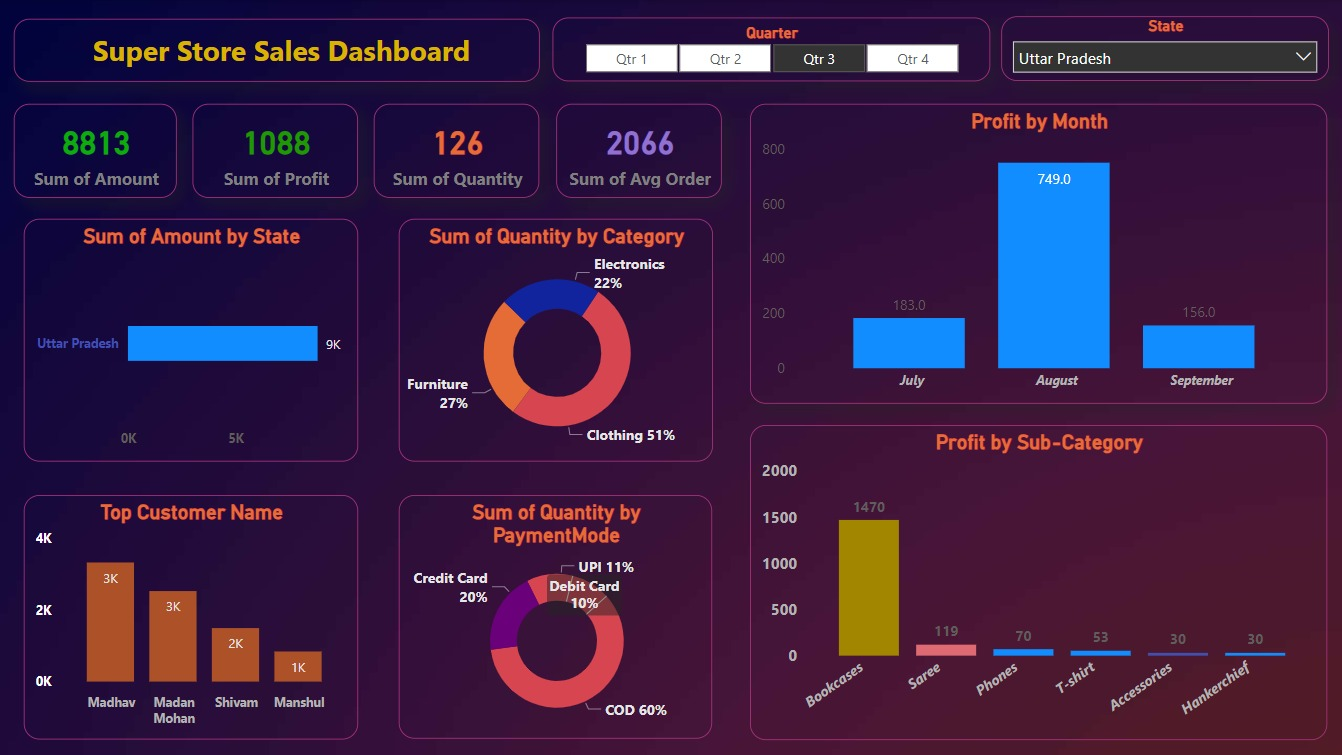

This screenshot's page, from the dashboard's own definition file:
{"tool":"powerbi","page":{"name":"Page 1","canvas":[1280,720],"ordinal":0},"visuals":[{"type":"textbox","box":[13.5,17.4,500.9,60.4],"z":0,"group":"g1"},{"type":"columnChart","title":"Profit by Month","fields":{"Category":["Orders.Order Date.Variation.Date Hierarchy.Month"],"Y":["Sum(Details.Profit)"]},"box":[714,98.8,549.8,285.6],"z":1000,"group":"g1"},{"type":"columnChart","title":"Profit by Sub-Category","fields":{"Category":["Details.Sub-Category"],"Y":["Sum(Details.Profit)"]},"box":[714,404.1,549.5,300.4],"z":2000,"group":"g1"},{"type":"donutChart","fields":{"Category":["Details.Category"],"Y":["Sum(Details.Quantity)"]},"box":[379.1,208.6,299.2,231.3],"z":3000,"group":"g1"},{"type":"donutChart","fields":{"Y":["Sum(Details.Quantity)"],"Category":["Details.PaymentMode"]},"box":[379.6,471.3,298.7,232.1],"z":4000,"group":"g1"},{"type":"card","fields":{"Values":["Sum(Details.Amount)"]},"box":[13.1,98.9,155,89.4],"z":5000,"group":"g1"},{"type":"card","fields":{"Values":["Sum(Details.Profit)"]},"box":[183.6,98.9,157.3,89.4],"z":6000,"group":"g1"},{"type":"card","fields":{"Values":["Sum(Details.Quantity)"]},"box":[356.4,98.9,157.3,89.4],"z":7000,"group":"g1"},{"type":"card","fields":{"Values":["Sum(Details.Avg Order)"]},"box":[529.2,98.9,157.3,89.4],"z":8000,"group":"g1"},{"type":"clusteredBarChart","fields":{"Category":["Orders.State"],"Y":["Sum(Details.Amount)"]},"box":[22.6,208.6,318.3,231.3],"z":9000,"group":"g1"},{"type":"columnChart","title":"Top Customer Name","fields":{"Category":["Orders.CustomerName"],"Y":["Sum(Details.Amount)"]},"box":[22.6,470.9,318.3,232.4],"z":10000,"group":"g1"},{"type":"slicer","title":"Quarter","fields":{"Values":["Orders.Order Date.Variation.Date Hierarchy.Quarter"]},"box":[525.6,17.1,416.5,60.7],"z":11000,"group":"g1"},{"type":"slicer","title":"State","fields":{"Values":["Orders.State"]},"box":[953.4,15.5,311.8,61.9],"z":13000,"group":"g1"},{"type":"group","id":"g1","title":"Group 1","box":[13.1,15.5,1252,689.1],"z":13001}]}

Visuals, with their boxes in screenshot pixels (x1, y1, x2, y2), scaled from the page's 1280x720 canvas onto the 1342x755 screenshot:
textbox: bbox=(14, 18, 539, 82)
"Profit by Month" columnChart: bbox=(749, 104, 1325, 403)
"Profit by Sub-Category" columnChart: bbox=(749, 424, 1325, 739)
donutChart - Details.Category x Sum(Details.Quantity): bbox=(397, 219, 711, 461)
donutChart - Sum(Details.Quantity) x Details.PaymentMode: bbox=(398, 494, 711, 738)
card - Sum(Details.Amount): bbox=(14, 104, 176, 197)
card - Sum(Details.Profit): bbox=(192, 104, 357, 197)
card - Sum(Details.Quantity): bbox=(374, 104, 539, 197)
card - Sum(Details.Avg Order): bbox=(555, 104, 720, 197)
clusteredBarChart - Orders.State x Sum(Details.Amount): bbox=(24, 219, 357, 461)
"Top Customer Name" columnChart: bbox=(24, 494, 357, 737)
"Quarter" slicer: bbox=(551, 18, 988, 82)
"State" slicer: bbox=(1000, 16, 1326, 81)
"Group 1" group: bbox=(14, 16, 1326, 739)
